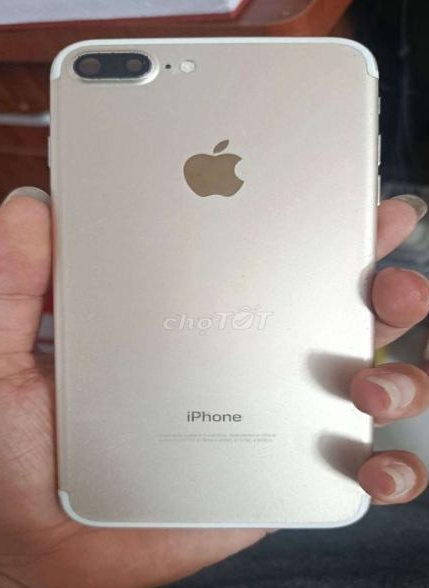scratch: (66, 48, 162, 90)
